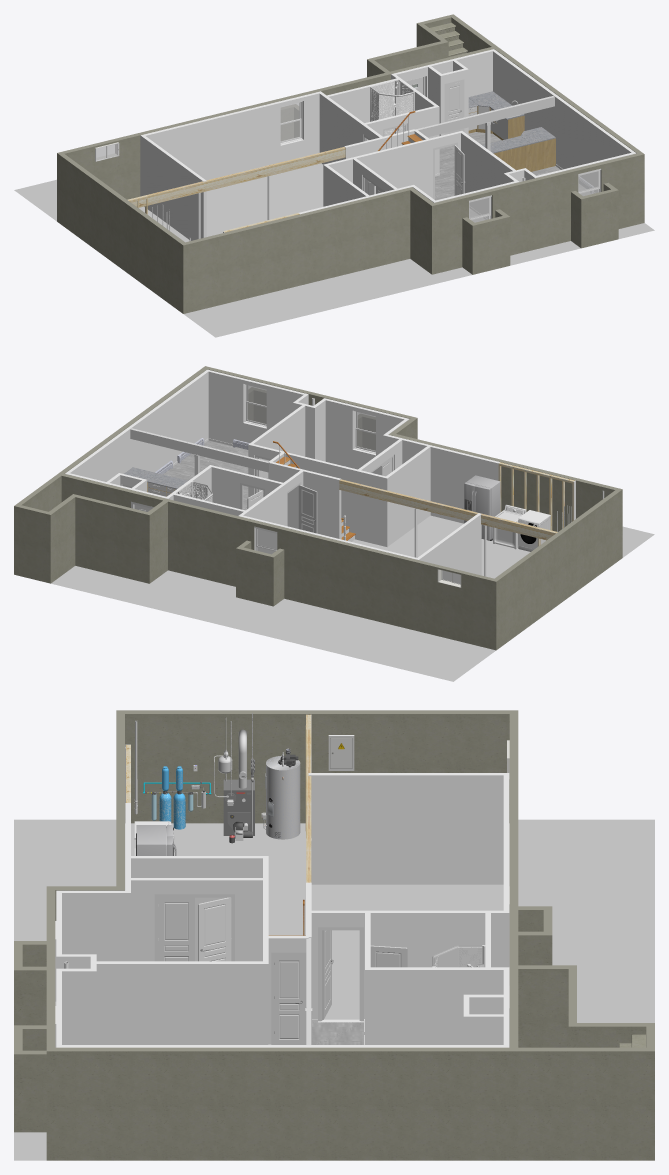
Rendered from susan_and_mike.glb.
3 views of the same model, one above another, from view 1: azimuth 30°, elevation 25°; view 2: azimuth 150°, elevation 25°; view 3: azimuth 270°, elevation 25° (orthographic). The views are drawn at different scales.
Visible parts, largest first — view 1: Object_105, Object_101, Object_94, Object_104, Object_100, Object_65, Object_91, Object_87, Object_66, Object_90, Object_106, Object_89 (+4 smaller); view 2: Object_105, Object_101, Object_94, Object_104, Object_100, Object_65, Object_90, Object_91, Object_66, Object_30, Object_106, Object_64 (+2 smaller); view 3: Object_105, Object_101, Object_94, Object_104, Object_91, Object_100, Object_65, Object_2, Object_106, Object_30, Object_13, Object_58 (+3 smaller).
Boxes of the visible parts, x1,y1,x2,y2 form: Object_105: (57, 17, 644, 313); Object_101: (140, 51, 636, 240); Object_94: (14, 163, 654, 337); Object_104: (57, 14, 644, 245); Object_100: (141, 49, 635, 238); Object_65: (127, 147, 345, 232); Object_91: (95, 79, 464, 199); Object_87: (468, 106, 555, 171); Object_66: (415, 96, 554, 137); Object_90: (280, 102, 598, 222); Object_106: (435, 132, 590, 222); Object_89: (468, 91, 555, 153); Object_105: (14, 369, 622, 650); Object_101: (70, 371, 575, 583); Object_94: (51, 515, 654, 681); Object_104: (14, 366, 622, 581); Object_100: (65, 369, 486, 576); Object_65: (339, 462, 574, 546); Object_90: (247, 385, 375, 554); Object_91: (122, 455, 393, 533); Object_66: (130, 428, 269, 472); Object_30: (464, 475, 500, 540); Object_106: (163, 440, 248, 510); Object_64: (493, 504, 526, 549); Object_105: (14, 714, 654, 1160); Object_101: (56, 715, 509, 1044); Object_94: (14, 819, 654, 1160); Object_104: (14, 710, 654, 1054); Object_91: (154, 740, 507, 1044); Object_100: (56, 767, 509, 1047); Object_65: (126, 714, 311, 882); Object_2: (266, 764, 284, 839); Object_106: (312, 1022, 364, 1044); Object_30: (136, 825, 176, 855); Object_13: (284, 764, 300, 839); Object_58: (223, 758, 254, 835).
Size of the model in its own units: 1430 by 277 by 1136.
Materials: 100 (18 with a texture image).
